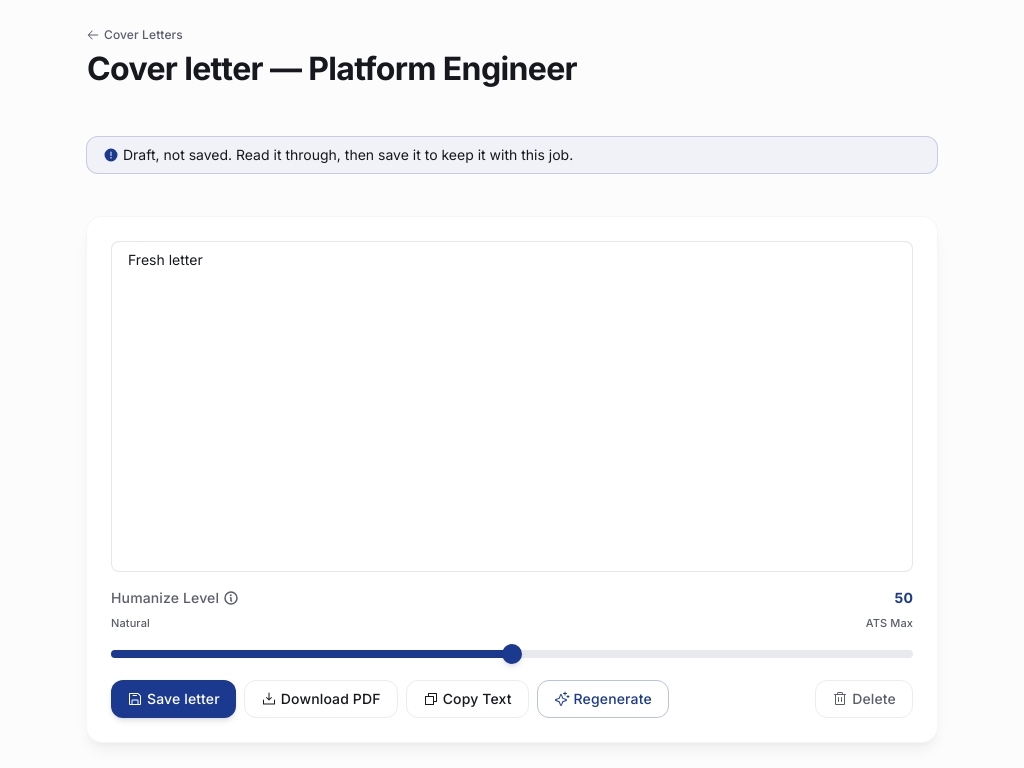
it: CoverLetterEditorPage › a freshly written letter is a draft: kept only when Save is pressed
Expected: the text "Draft, not saved. Read it through, then save it to keep it with this job." is shown, x1=86 y1=136 x2=938 y2=174
Unchanged, and still savable: a draft is not kept until the user says so.
Click the button "Save letter" at (173, 699), box x1=111 y1=680 x2=236 y2=718
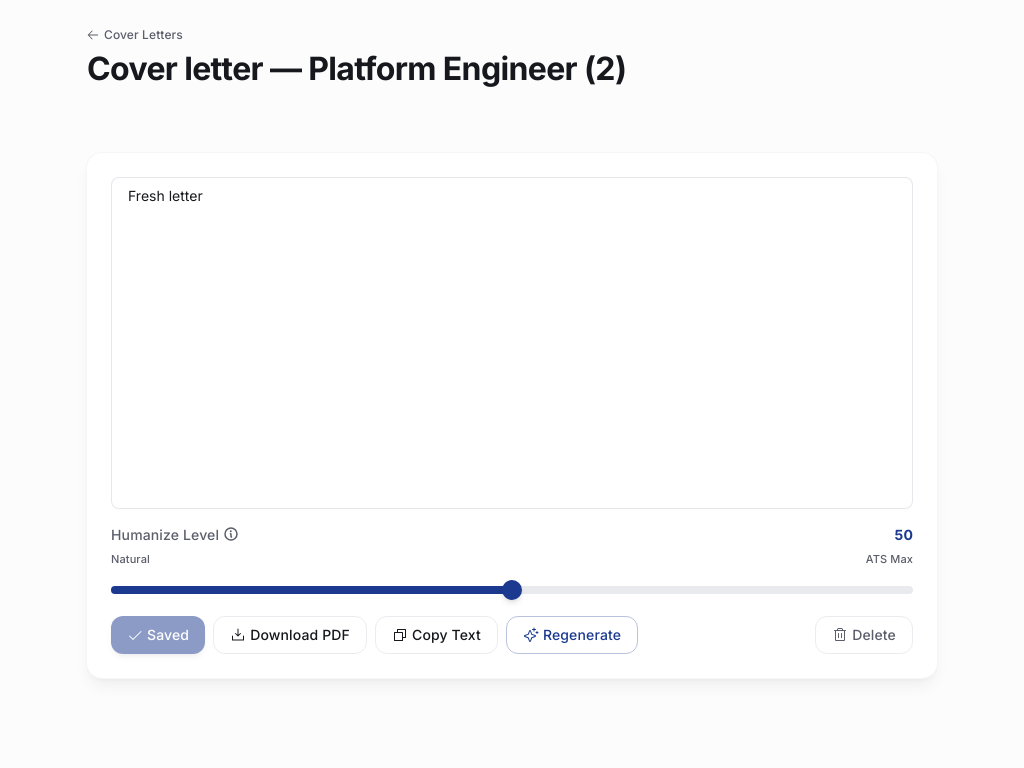
Expected: the button "Saved" is disabled, x1=111 y1=616 x2=205 y2=654
Expected: the text "Draft, not saved" is gone
Expected: the field named "Letter name" holds "Cover letter — Platform Engineer (2)", x1=82 y1=48 x2=934 y2=90
